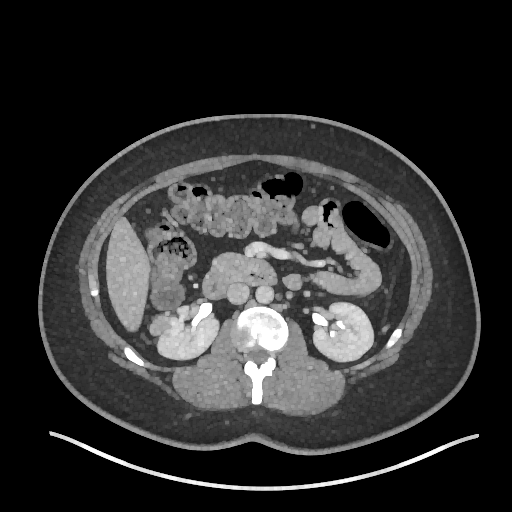Lesion: (146, 315, 176, 341)
